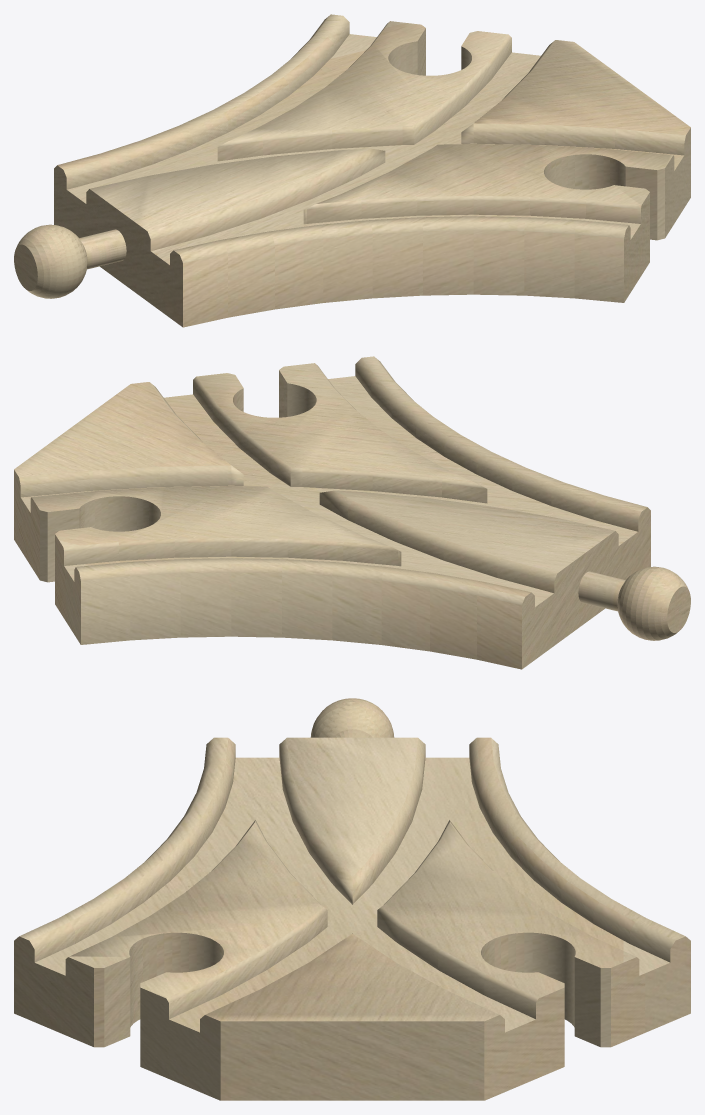
3 views of the same model, one above another, from view 1: azimuth 30°, elevation 25°; view 2: azimuth 150°, elevation 25°; view 3: azimuth 270°, elevation 25° (orthographic). The views are drawn at different scales.
Visible parts, largest first — view 1: SketchUp, _3d_peg; view 2: SketchUp, _3d_peg; view 3: SketchUp, _3d_peg.
Boxes of the visible parts, x1,y1,x2,y2 form: SketchUp: [54, 14, 690, 327]; _3d_peg: [14, 224, 126, 298]; SketchUp: [14, 356, 650, 669]; _3d_peg: [578, 566, 690, 640]; SketchUp: [14, 737, 690, 1100]; _3d_peg: [310, 698, 394, 737].
Bounding box in the file's own units: 4.27 × 3.65 × 0.4724.
